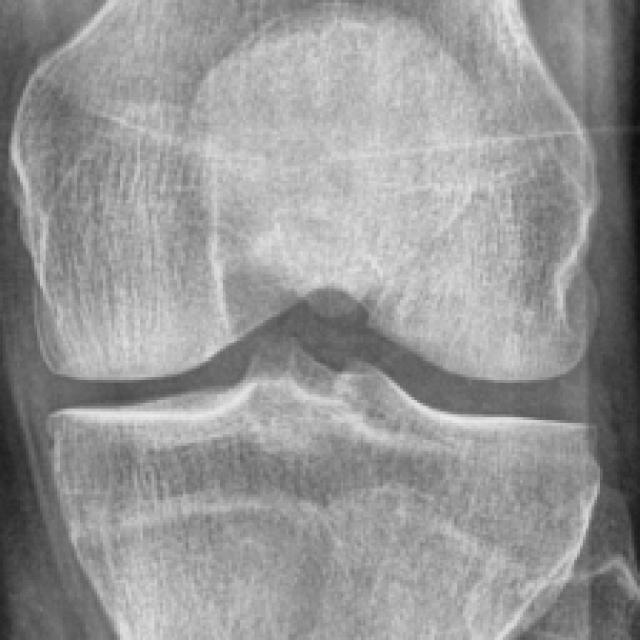femur: (10, 0, 602, 383)
tibia: (44, 370, 601, 640)
